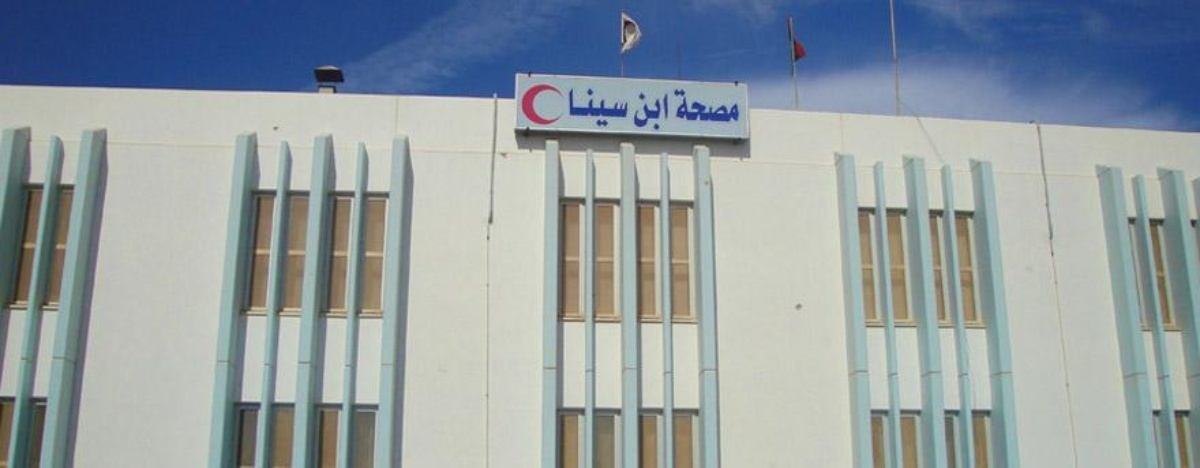text: (577, 85, 592, 129), (593, 85, 608, 129), (609, 85, 624, 129), (641, 92, 656, 130), (673, 88, 688, 125), (689, 88, 704, 125), (705, 88, 720, 125), (721, 88, 736, 125), (657, 92, 671, 130), (564, 85, 576, 129), (625, 85, 632, 129), (633, 92, 640, 130), (737, 88, 740, 125)
